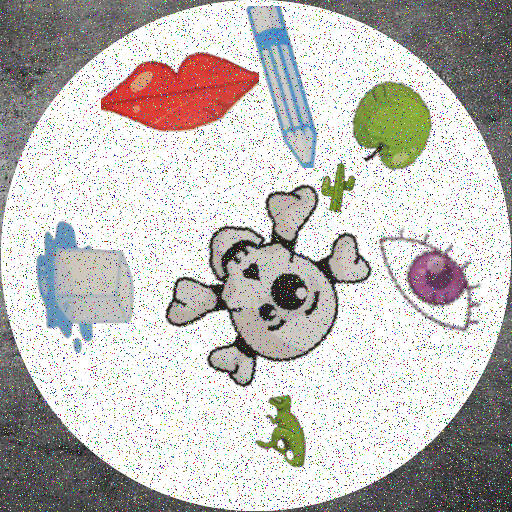apple_icon: (350, 79, 444, 173)
cactus_icon: (310, 162, 363, 215)
cube_icon: (19, 212, 164, 357)
dino_icon: (254, 395, 327, 468)
eye_icon: (365, 215, 495, 345)
lips_icon: (101, 22, 260, 181)
pen_icon: (204, 6, 366, 168)
skull_icon: (150, 176, 384, 410)
